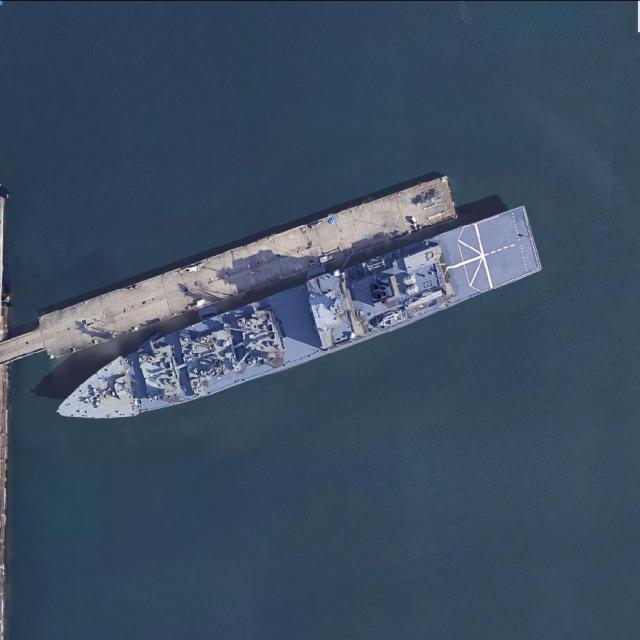Auxiliary Ships: (44, 202, 548, 447)
